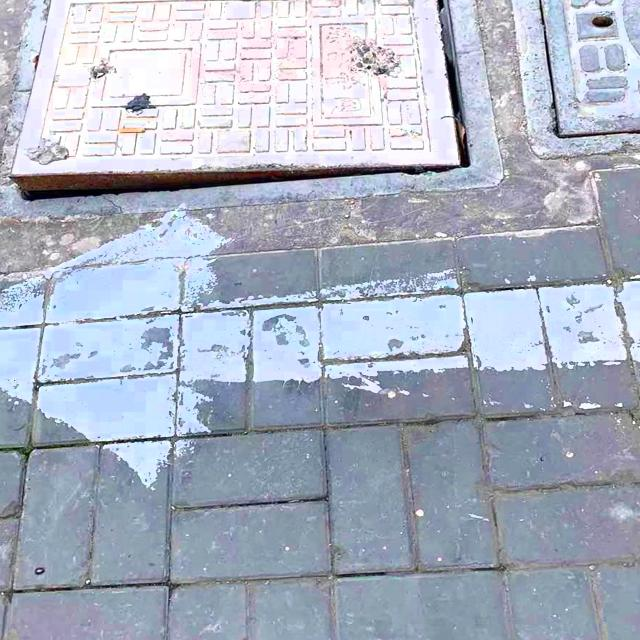good: (481, 0, 640, 161)
uncovered: (0, 0, 505, 210)
